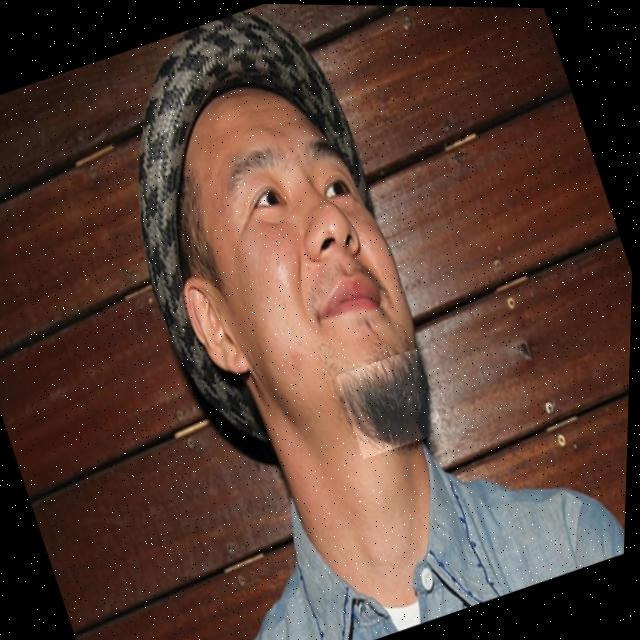beard: (344, 349, 429, 446)
